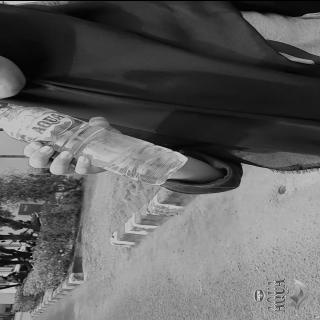plastic_bottles: (1, 103, 190, 187)
